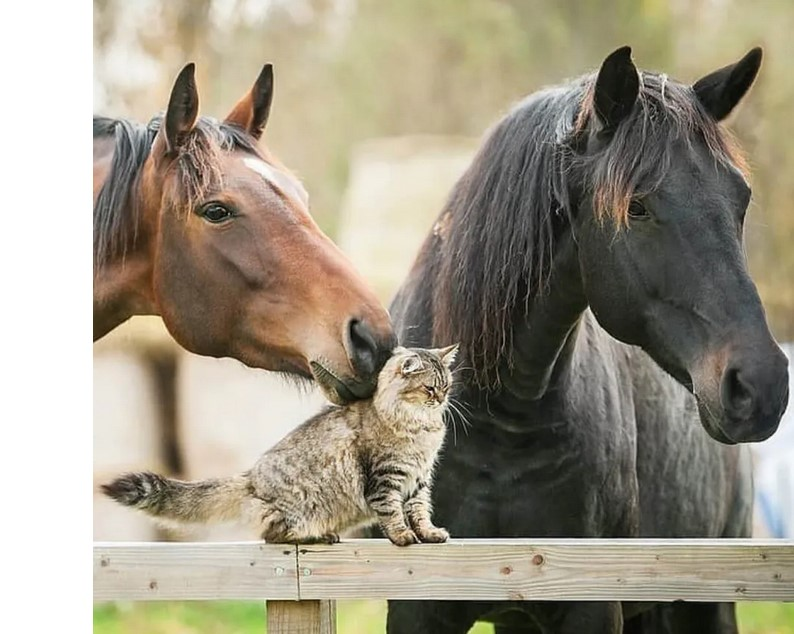cat: (99, 342, 460, 546)
horse: (380, 45, 788, 633), (95, 61, 398, 406)
